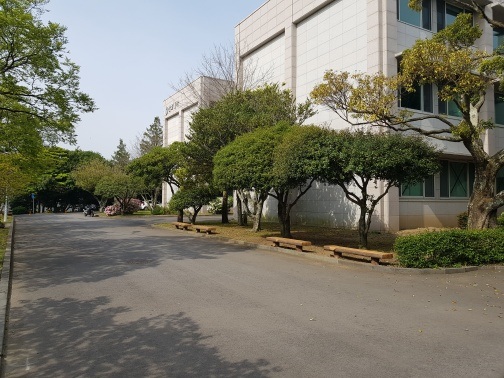College of Nursing: (231, 6, 469, 225), (154, 67, 219, 211)
